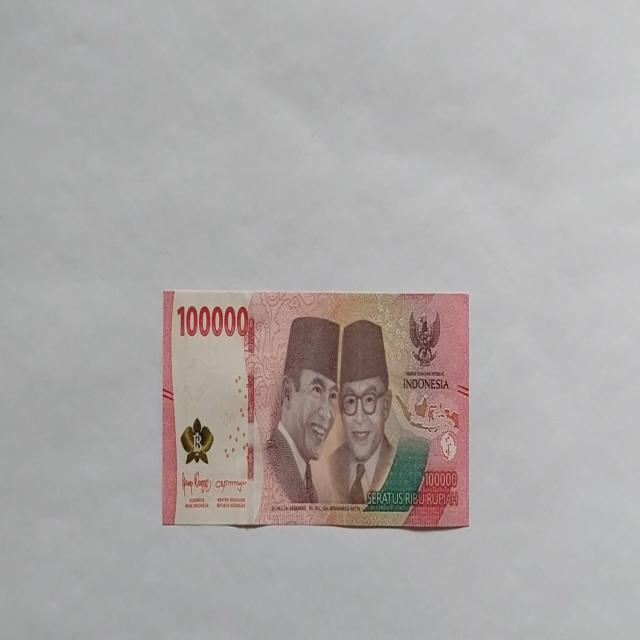seratus ribu rupiah: (162, 288, 470, 530)
